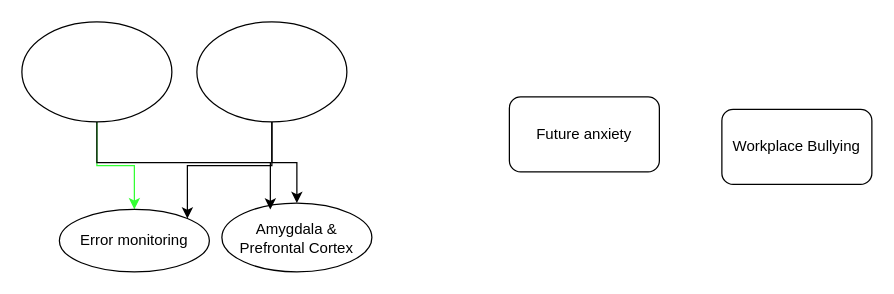
Some shapes in this 894 by 294 pixel diagram are drawn without their labels. The centre of each missing label's shape, as x and y in pixels:
"Clinical anxiety" goes at (271,71).
"High-trait anxiety" goes at (96,71).
